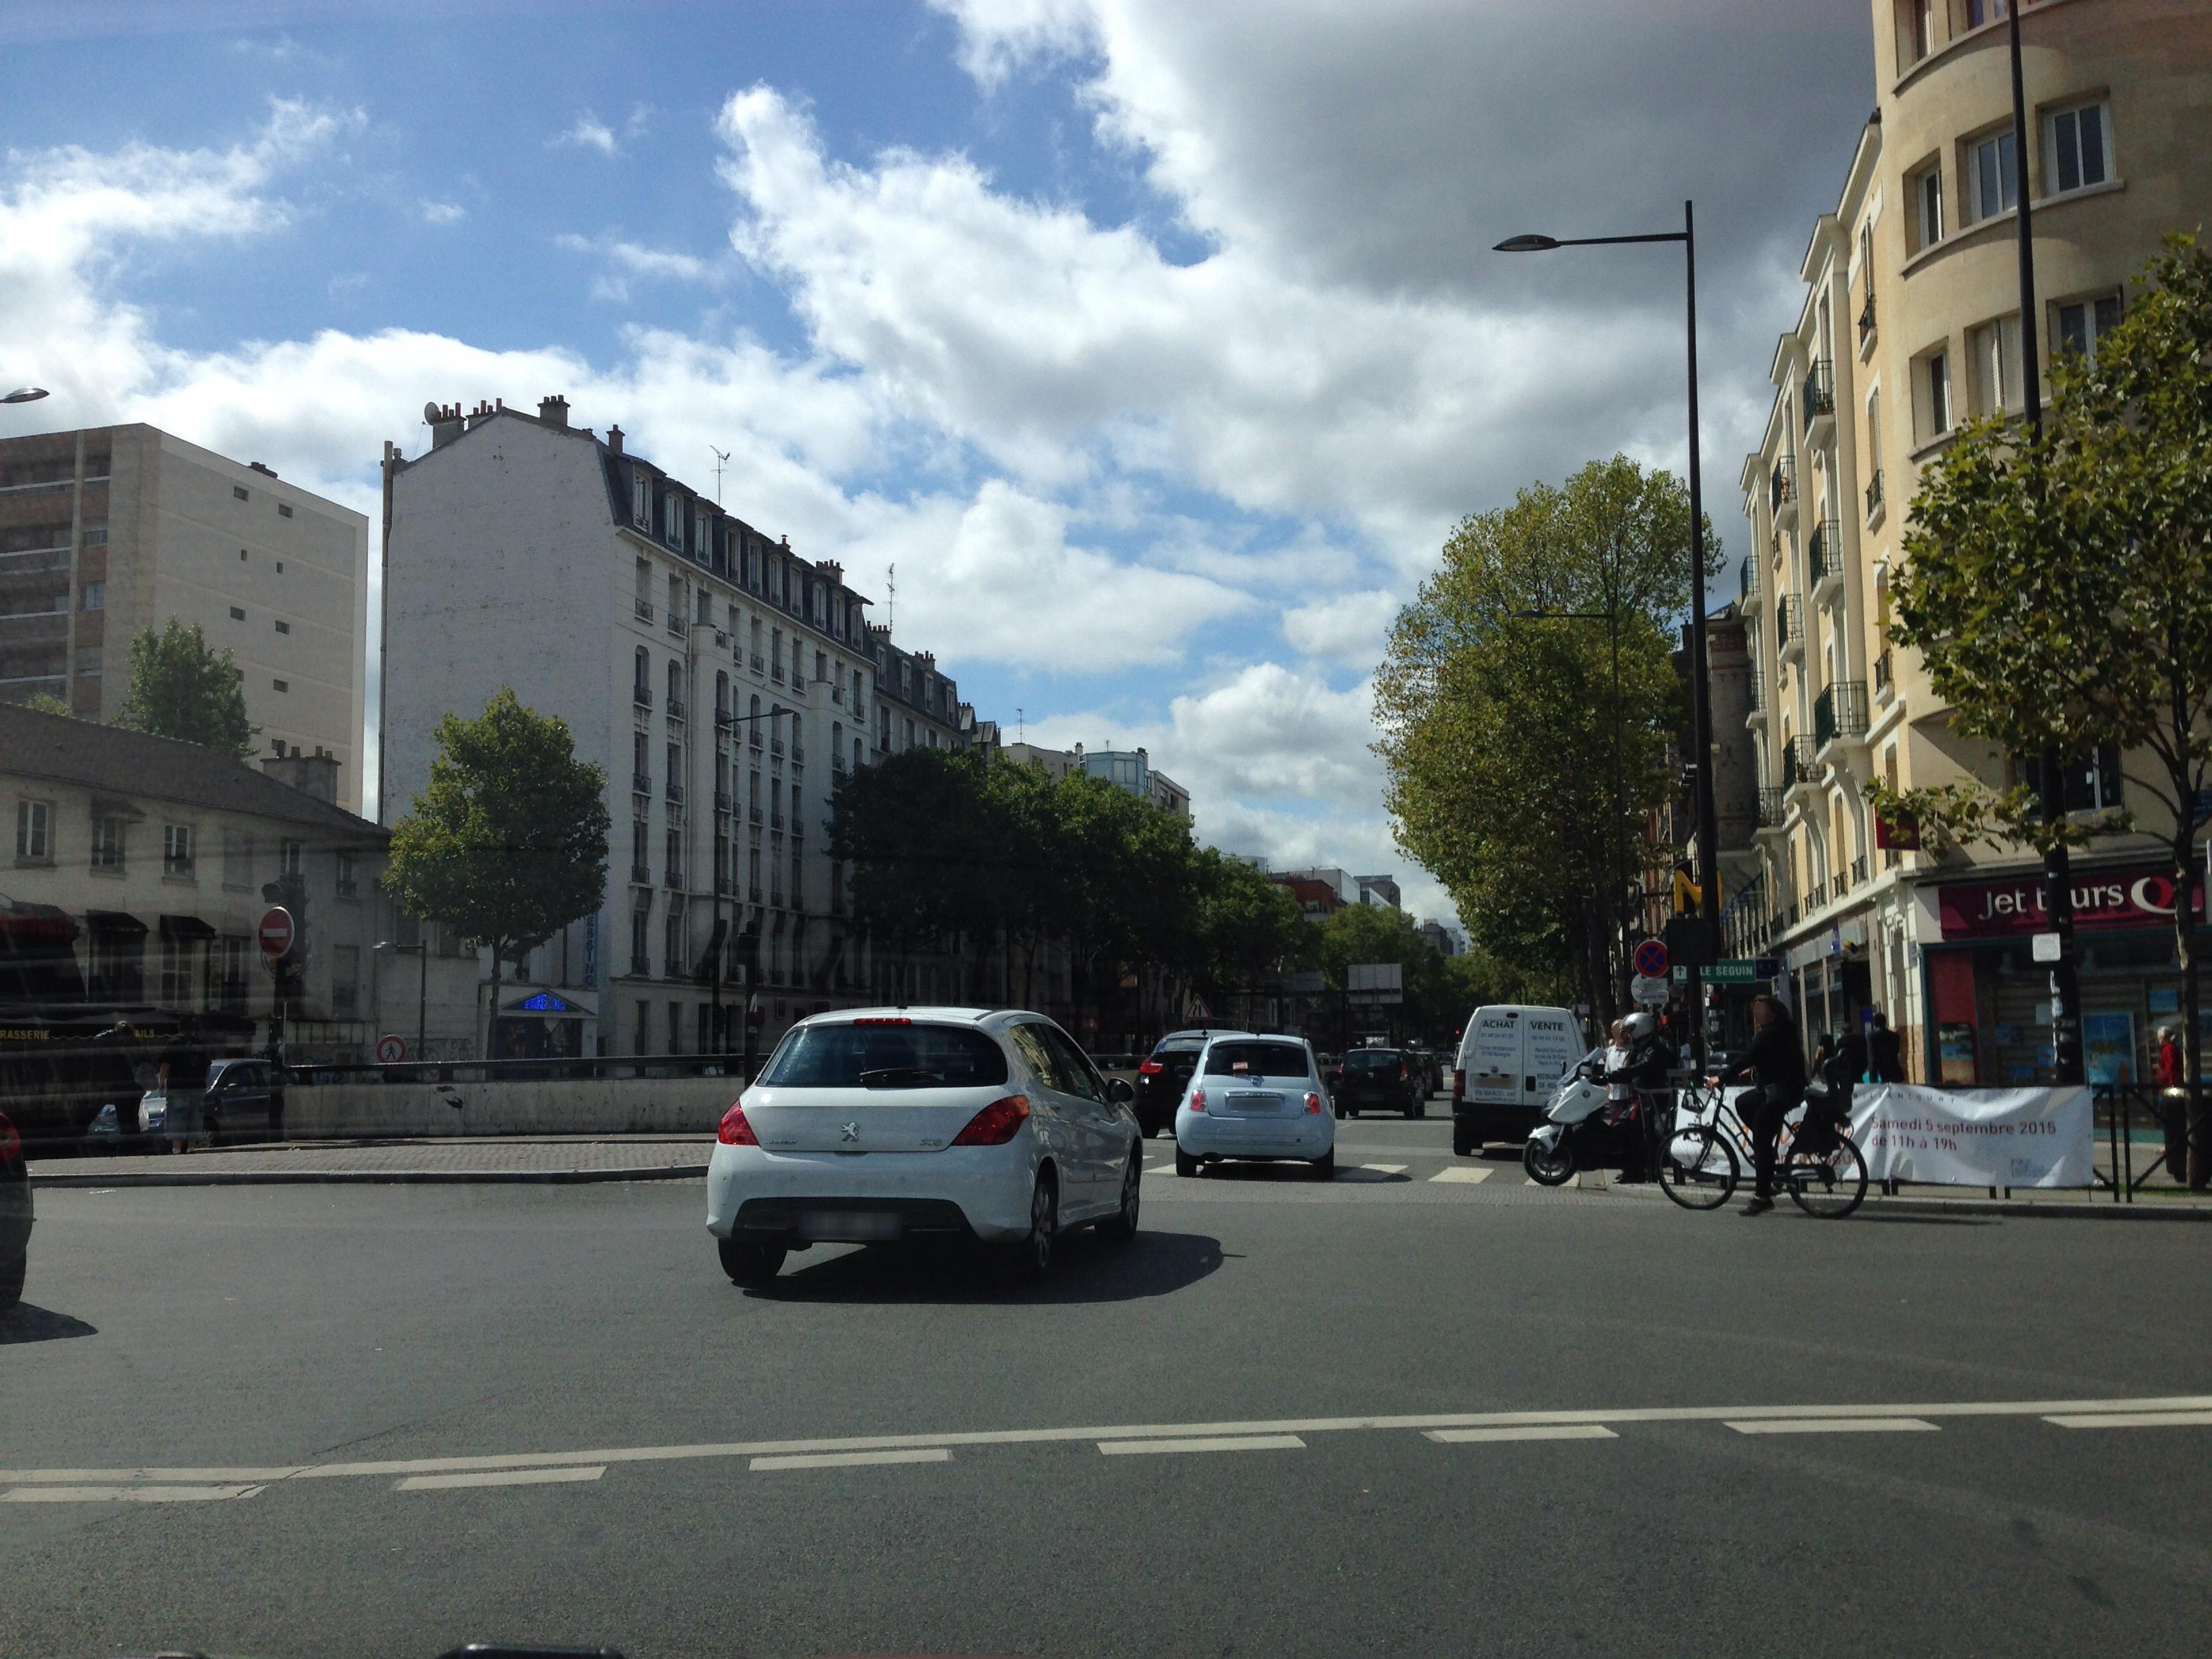vinyl banner: (1667, 1065, 2148, 1211)
